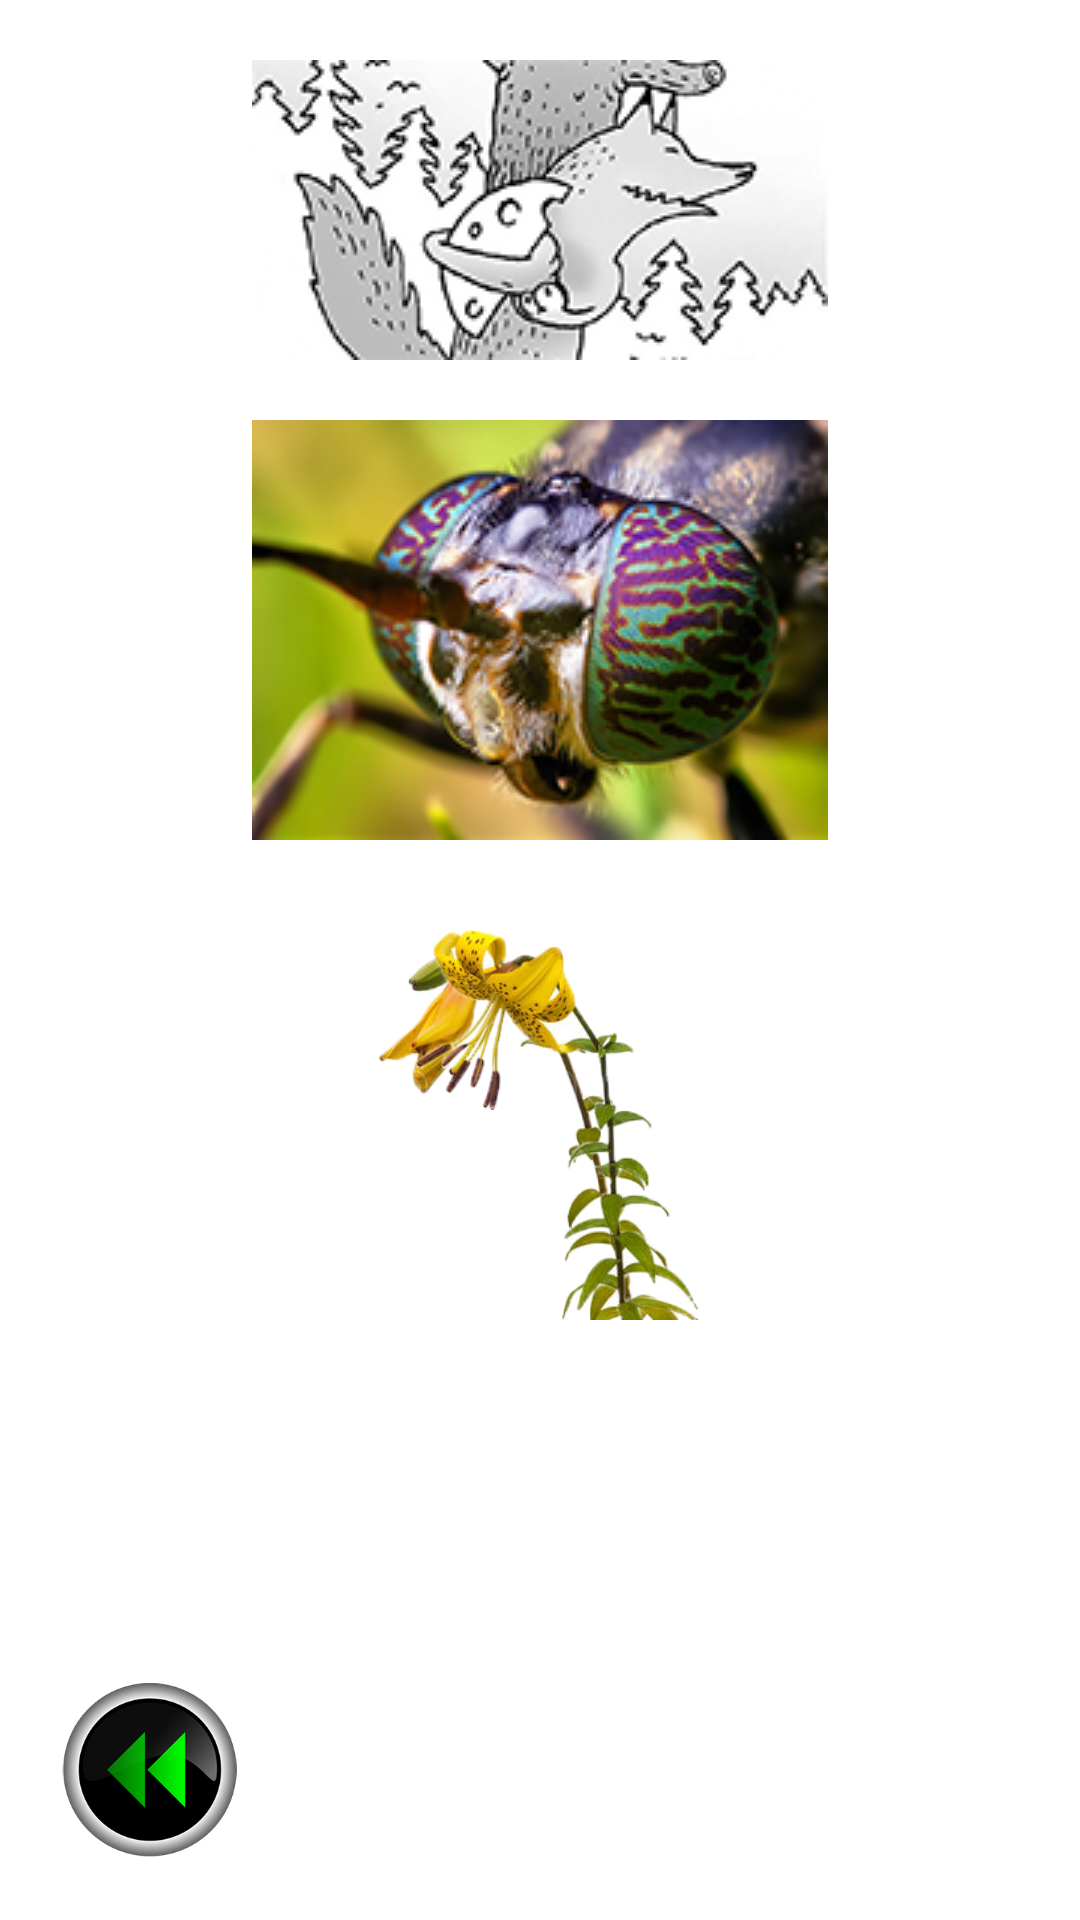

Icons on this 1080px×1920px Android screen, each with its box as detection(x1, y1, x2, y2):
back: detection(62, 1683, 237, 1857)
